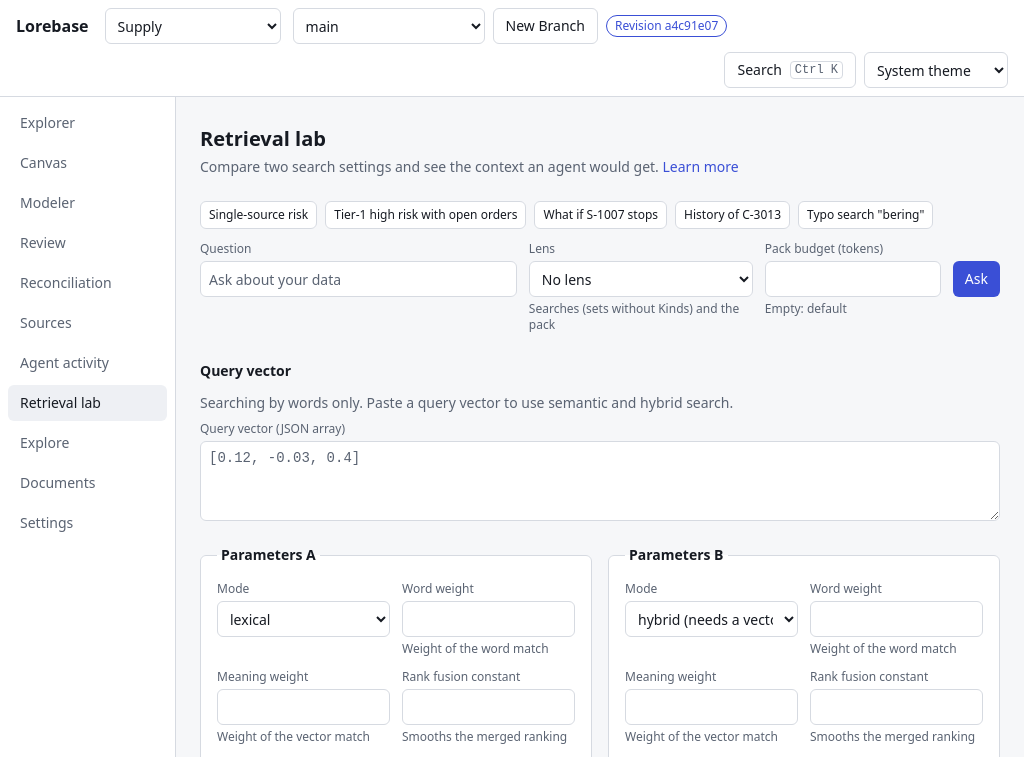
Test case: Retrieval lab › fills the Question from the example questions of the Domain
Click the button "Single-source risk" at coordinates (259, 215), box [200,201,317,229]
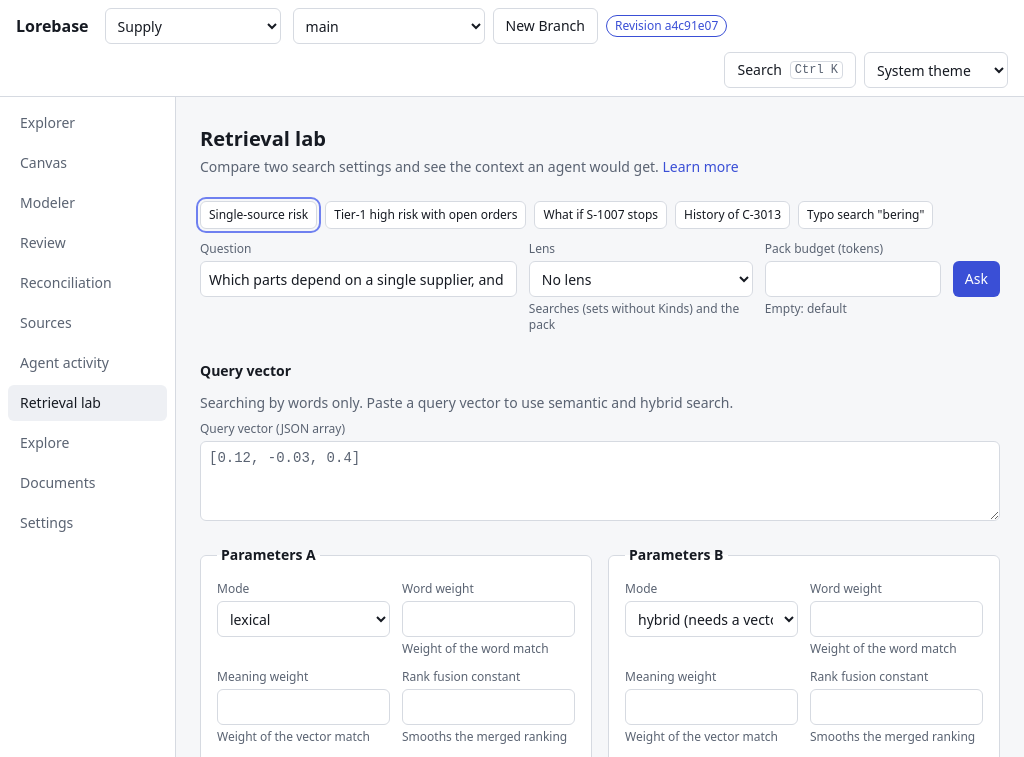
Check: the field labelled "Question" holds "Which parts depend on a single supplier, and how risky is that supplier?", box [200,261,517,297]
